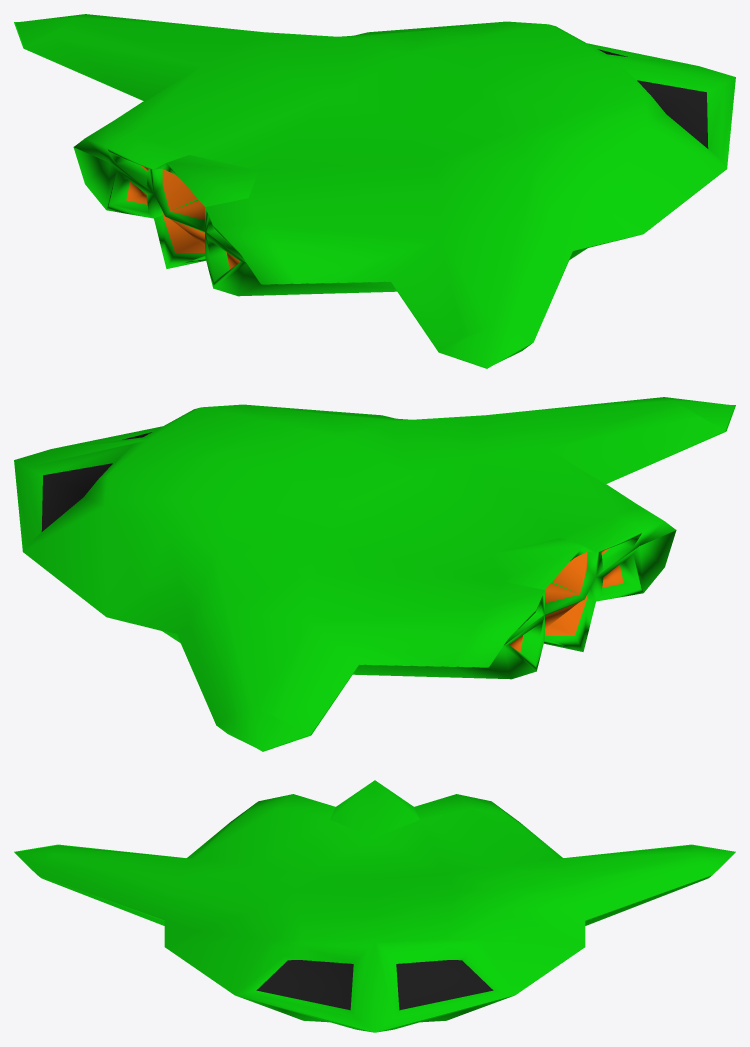
The model's file is Ship.fbx.
The picture shows the model from 3 angles, top to bottom: view 1: azimuth 30°, elevation 25°; view 2: azimuth 150°, elevation 25°; view 3: azimuth 270°, elevation 25°; orthographic projection. The views are drawn at different scales.
Visible parts, largest first — view 1: Cube; view 2: Cube; view 3: Cube.
Boxes of the visible parts, x1,y1,x2,y2 form: Cube: (14,14,735,368); Cube: (14,397,735,751); Cube: (14,780,735,1032).
Size of the model in its own units: 241 by 42.68 by 343.
